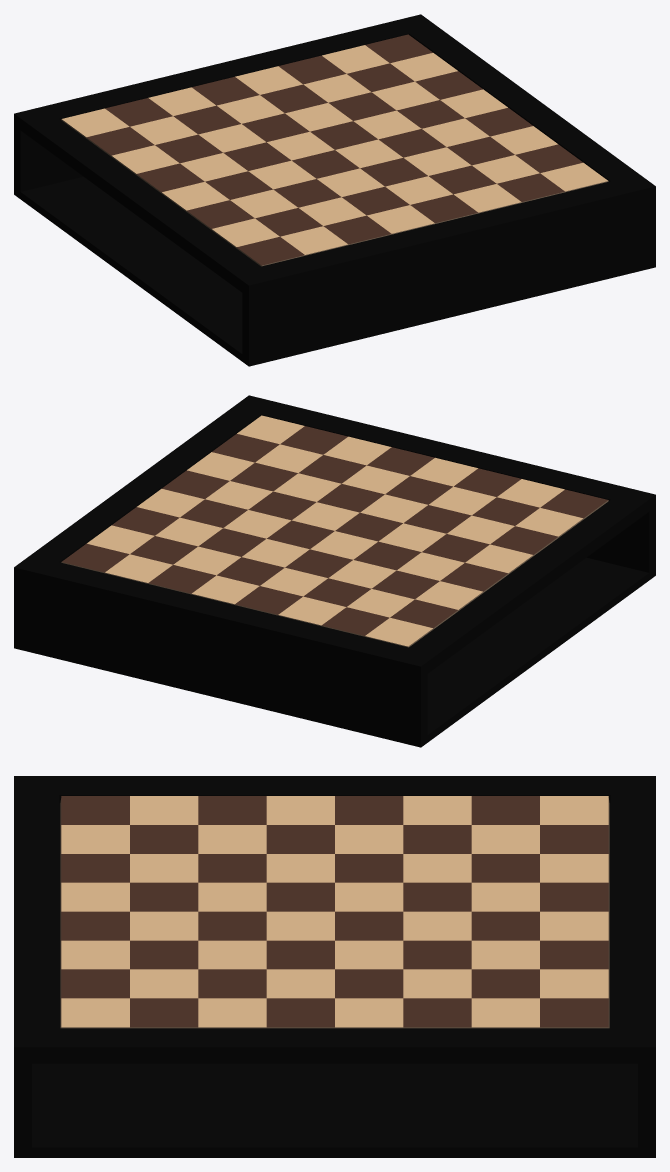
File: wood.glb
3 views of the same model, one above another, from view 1: azimuth 30°, elevation 25°; view 2: azimuth 150°, elevation 25°; view 3: azimuth 270°, elevation 25° (orthographic). The views are drawn at different scales.
Visible parts, largest first — view 1: Board_6fba70, Board_3d18e2, Board_65a69b, Board_33c8a0; view 2: Board_6fba70, Board_65a69b, Board_3d18e2, Board_33c8a0; view 3: Board_6fba70, Board_3d18e2, Board_65a69b, Board_33c8a0.
Part boxes in pixels (x1=…): Board_6fba70: x1=14, y1=14, x2=655, y2=366; Board_3d18e2: x1=87, y1=34, x2=582, y2=265; Board_65a69b: x1=62, y1=45, x2=607, y2=254; Board_33c8a0: x1=61, y1=119, x2=608, y2=266; Board_6fba70: x1=14, y1=395, x2=655, y2=747; Board_65a69b: x1=87, y1=415, x2=582, y2=646; Board_3d18e2: x1=62, y1=426, x2=607, y2=635; Board_33c8a0: x1=61, y1=500, x2=608, y2=647; Board_6fba70: x1=14, y1=776, x2=655, y2=1157; Board_3d18e2: x1=61, y1=796, x2=608, y2=1027; Board_65a69b: x1=61, y1=796, x2=608, y2=1027; Board_33c8a0: x1=60, y1=798, x2=609, y2=1028.
Size of the model in its own units: 11.64 by 2.23 by 11.64.
